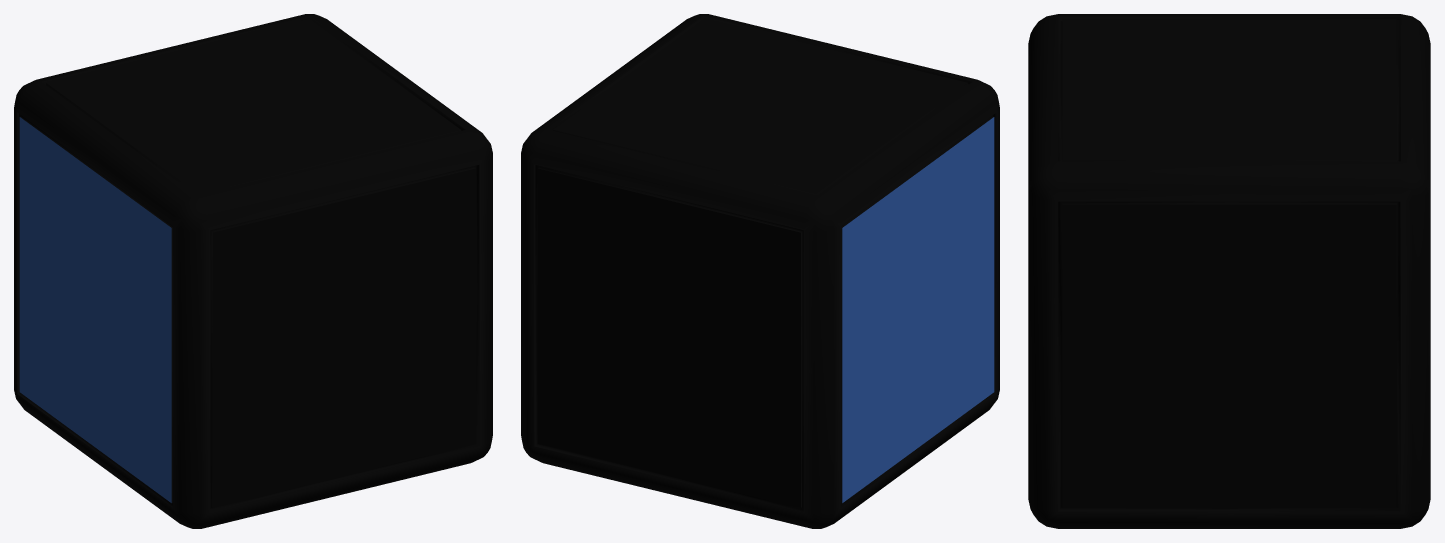
Rendered from singlecube24.gltf.
3 views of the same model, side by side, from view 1: azimuth 30°, elevation 25°; view 2: azimuth 150°, elevation 25°; view 3: azimuth 270°, elevation 25° (orthographic). The views are drawn at different scales.
Visible parts, largest first — view 1: Cube.005; view 2: Cube.005; view 3: Cube.005.
Part boxes in pixels (x1,y1,x2,y2): Cube.005: (14, 14, 492, 528); Cube.005: (521, 14, 999, 528); Cube.005: (1028, 14, 1430, 528).
Size of the model in its own units: 2 by 2 by 2.
